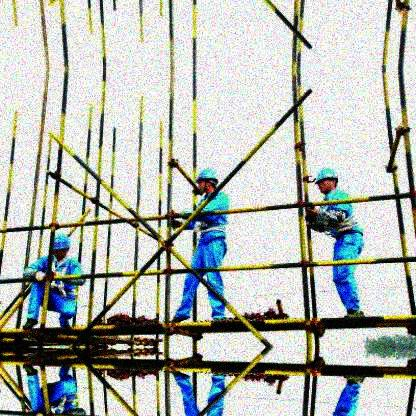helmet: (315, 167, 337, 195), (198, 167, 218, 192), (53, 235, 71, 261)
